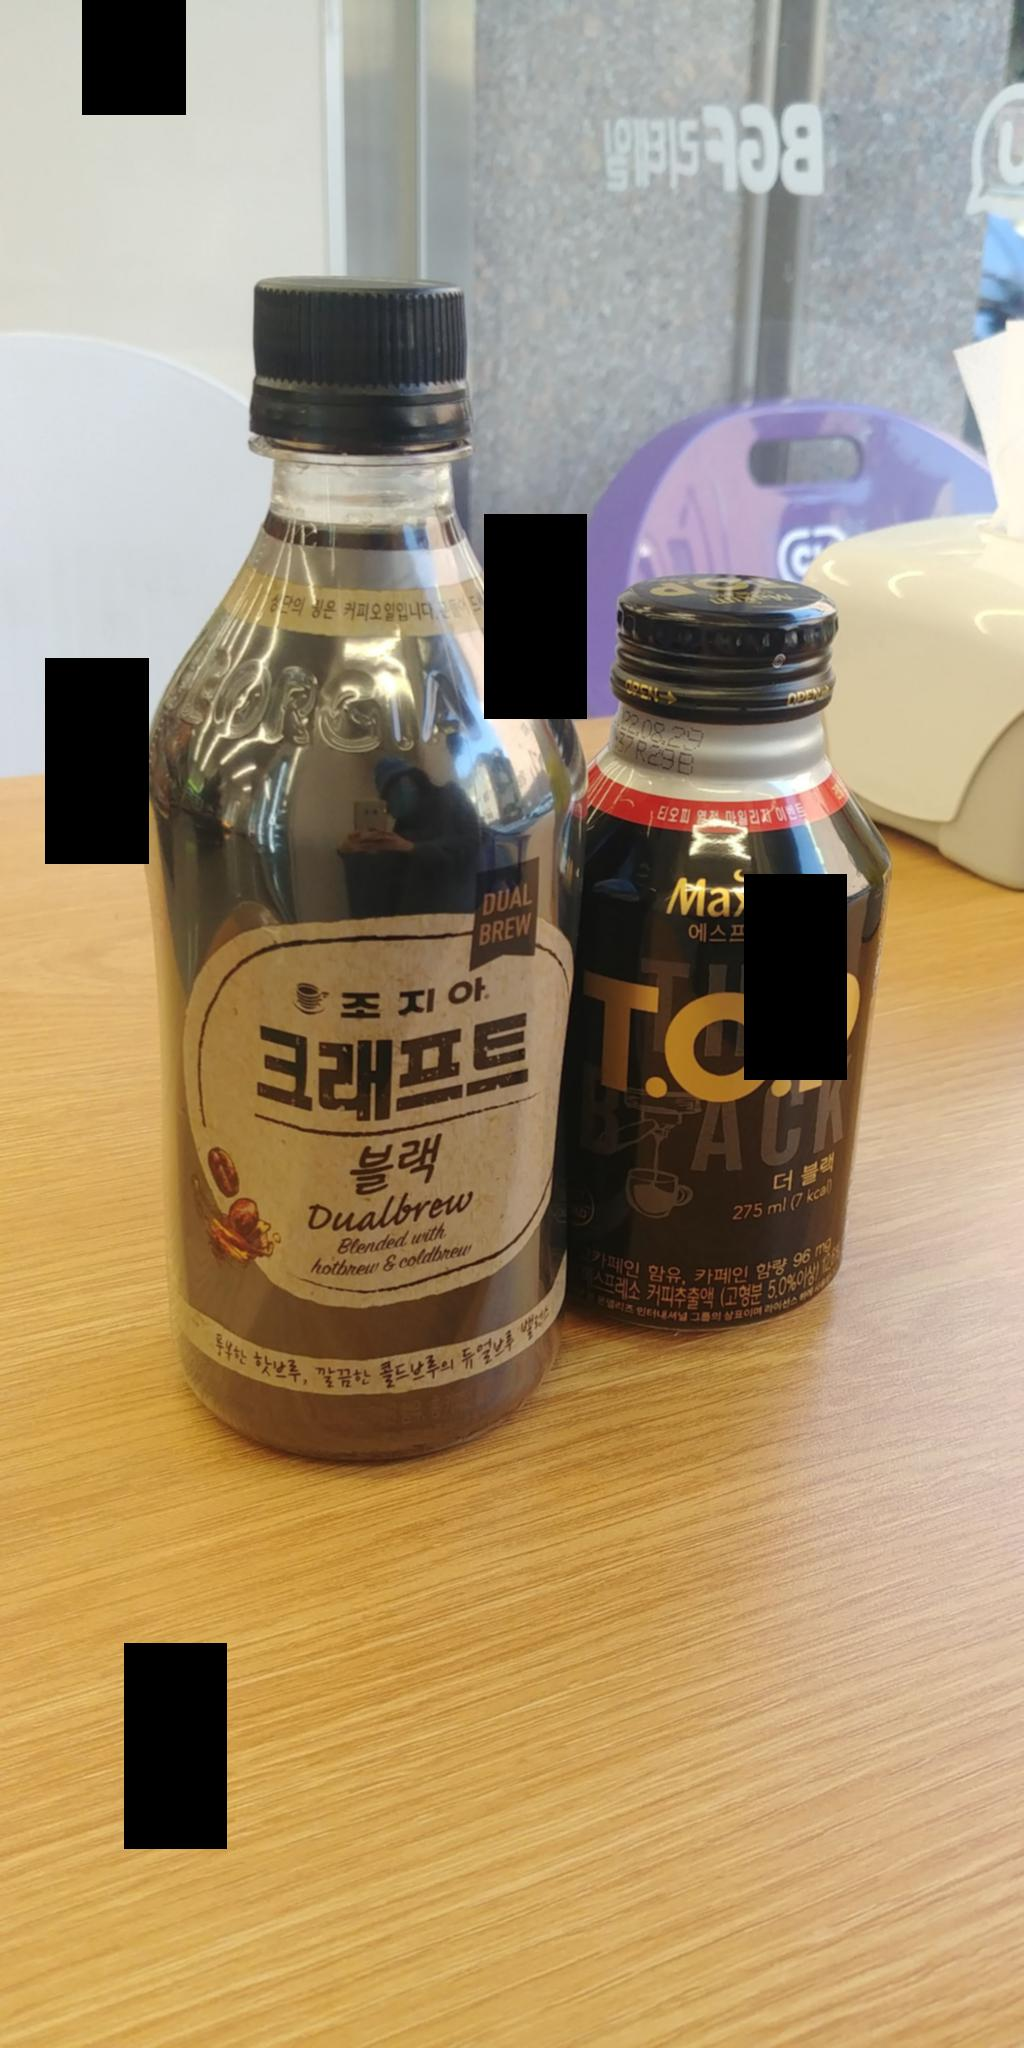TOP_black: (583, 556, 886, 1318)
georgiacraft_black: (131, 266, 580, 1476)
